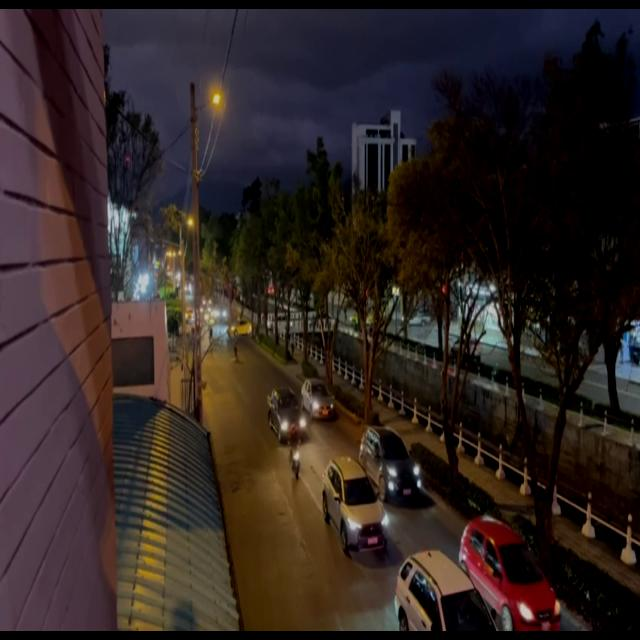MOTORCYCLE: (288, 447, 300, 482)
SED: (464, 520, 562, 636), (302, 378, 332, 417)
SUV: (393, 546, 496, 628), (321, 455, 386, 553), (363, 426, 424, 499), (270, 394, 305, 443)
